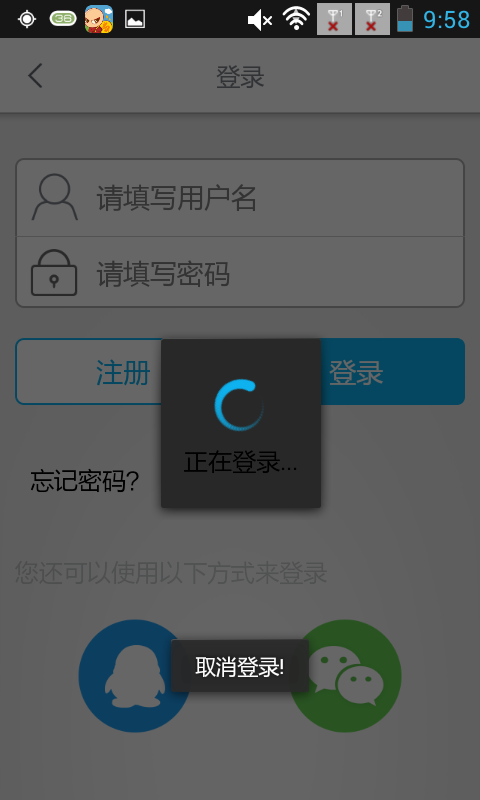alert: (167, 634, 312, 697)
